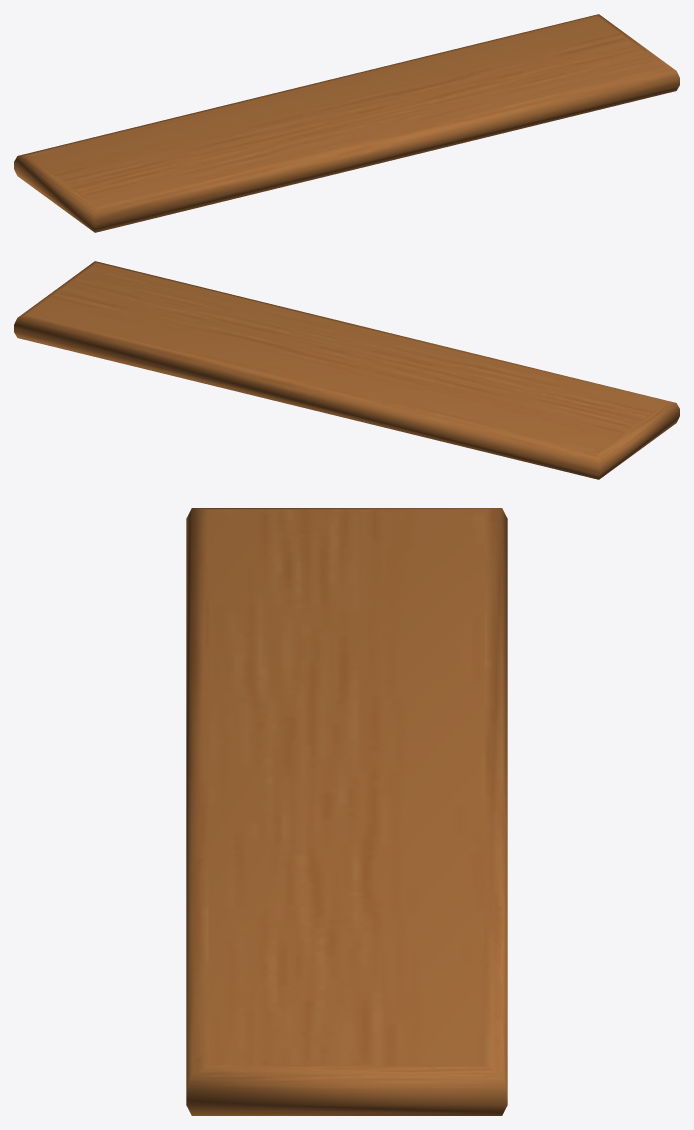
Rendered from Straight_Shelving_05.FBX.
3 renders of one model, top to bottom at view 1: azimuth 30°, elevation 25°; view 2: azimuth 150°, elevation 25°; view 3: azimuth 270°, elevation 25°, orthographic. The views are drawn at different scales.
Visible parts, largest first — view 1: Shelf_Straight; view 2: Shelf_Straight; view 3: Shelf_Straight.
Part boxes in pixels (<box>): Shelf_Straight: <box>14,14,679,232</box>; Shelf_Straight: <box>14,261,679,479</box>; Shelf_Straight: <box>186,508,507,1115</box>.
Bounding box in the file's own units: 200 × 8 × 47.55.
